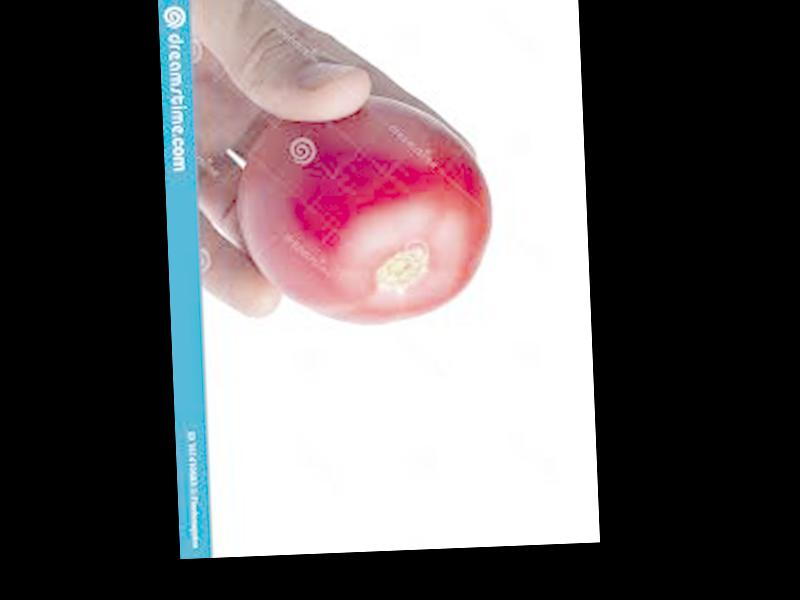Tomato: (234, 90, 495, 328)
